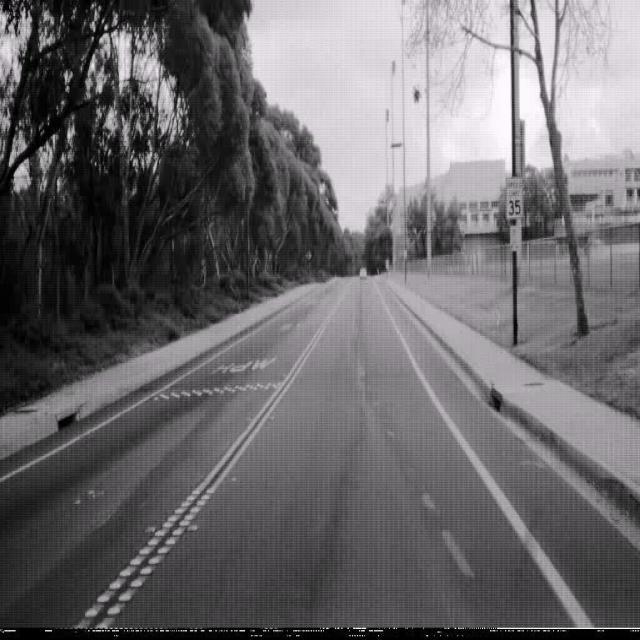speedLimit35: (505, 177, 523, 218)
